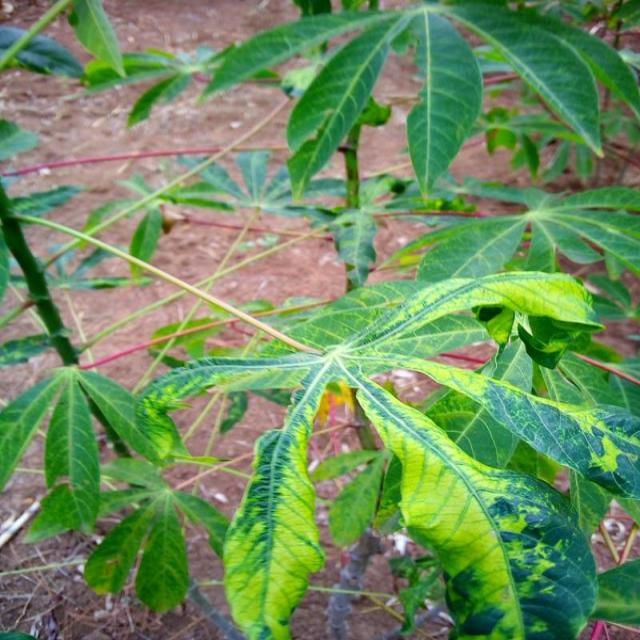Mosaico: (102, 296, 614, 620)
